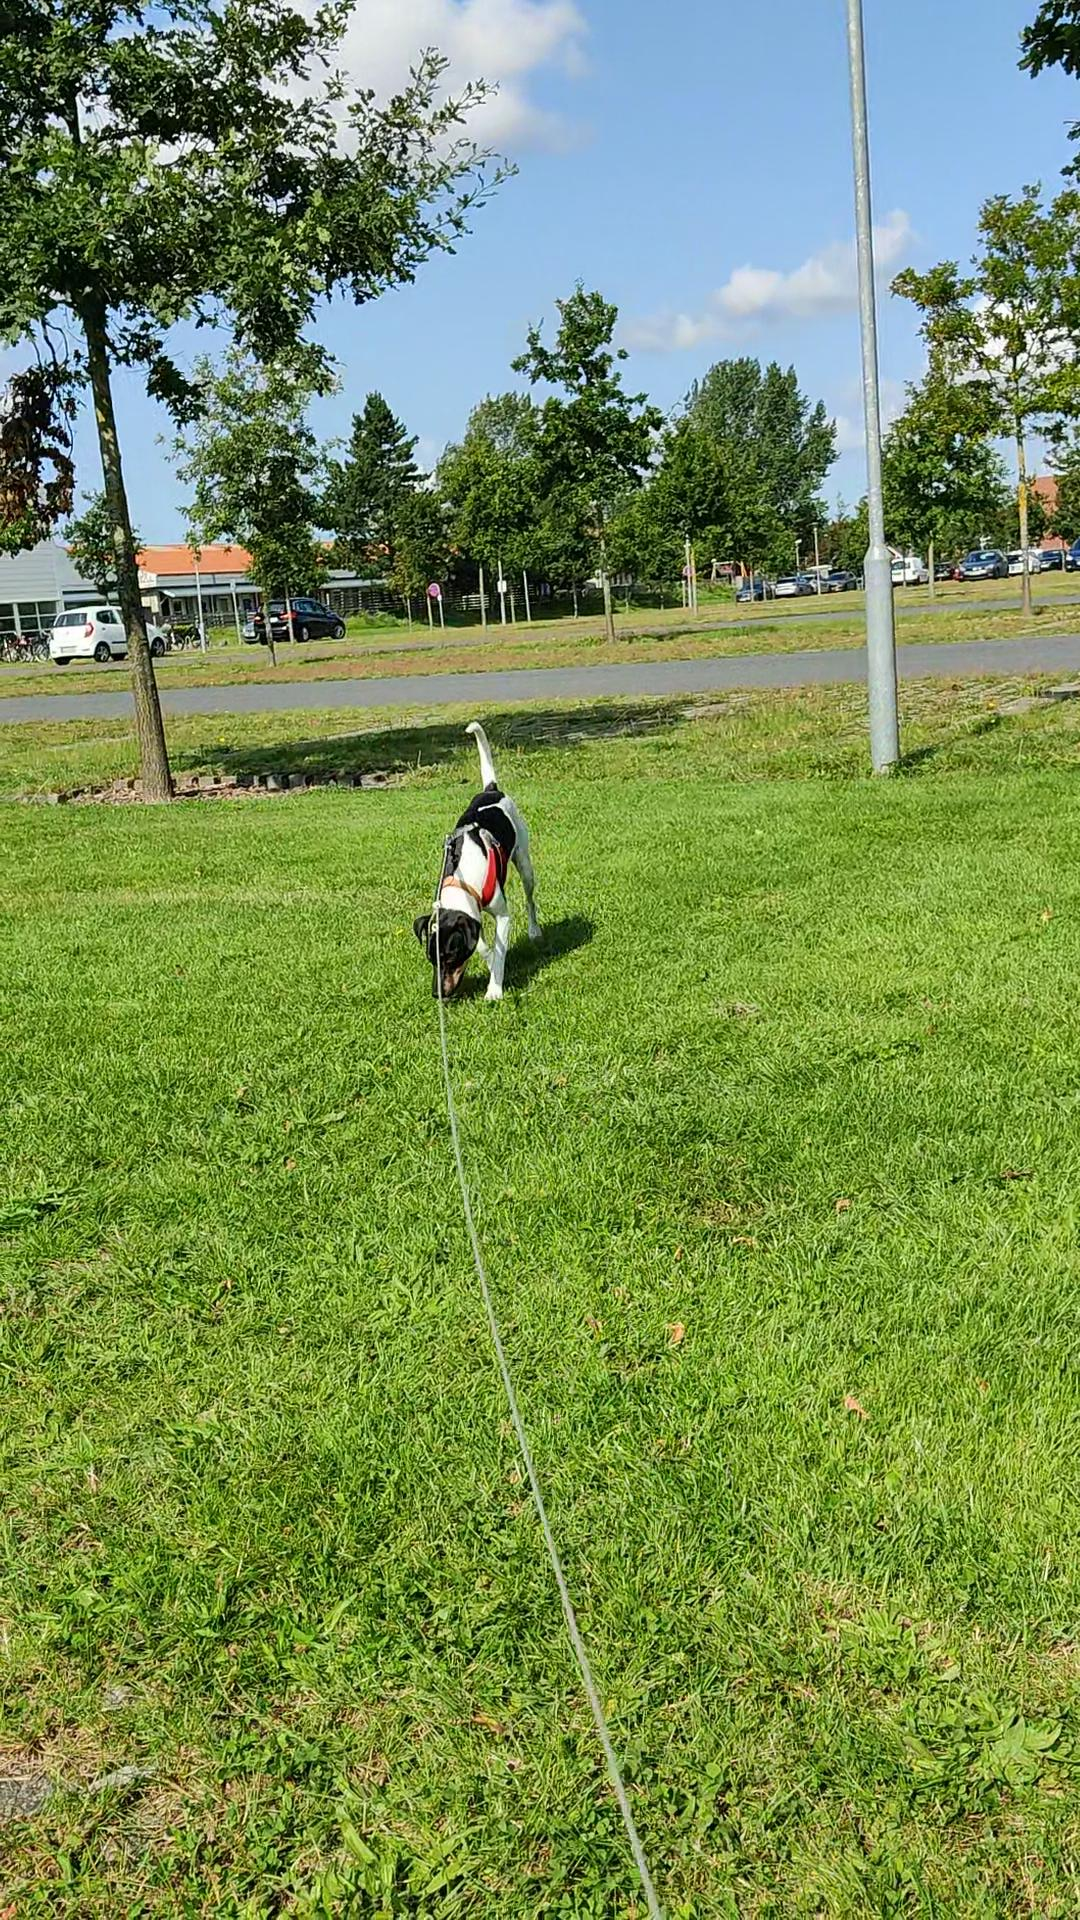Dog: (409, 717, 550, 1005)
